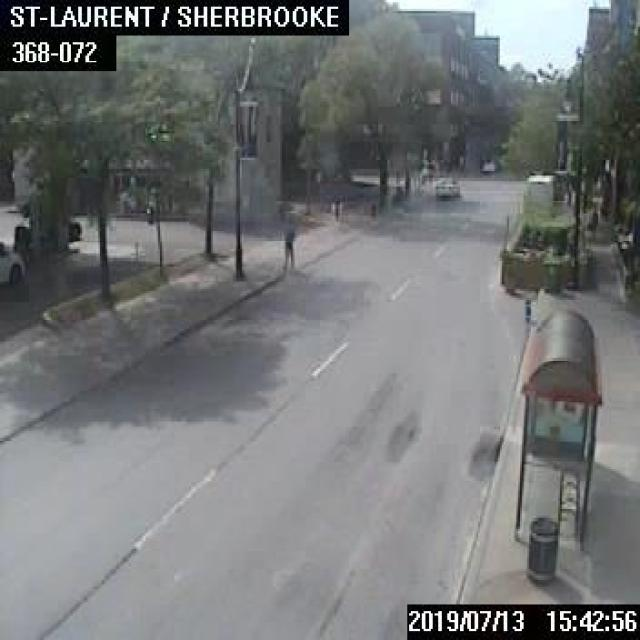pedestrian: (281, 224, 294, 269)
vehicle: (13, 213, 79, 244), (522, 172, 556, 215), (0, 238, 25, 283), (432, 176, 458, 196), (479, 157, 496, 170)
